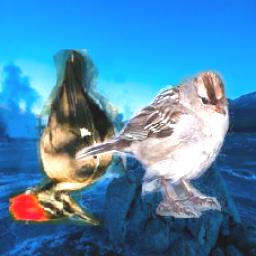Sparrow: (74, 70, 233, 219)
Woodpecker: (9, 49, 131, 226)
